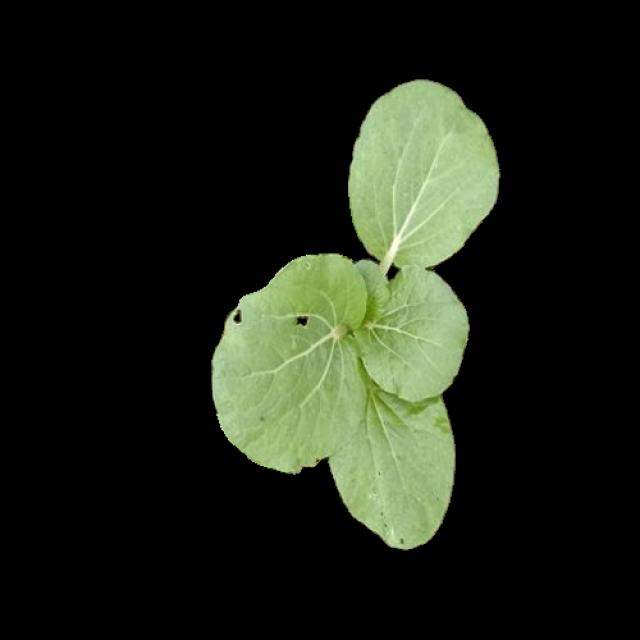not-mature: (214, 80, 499, 548)
unhealthy: (215, 254, 373, 473)
